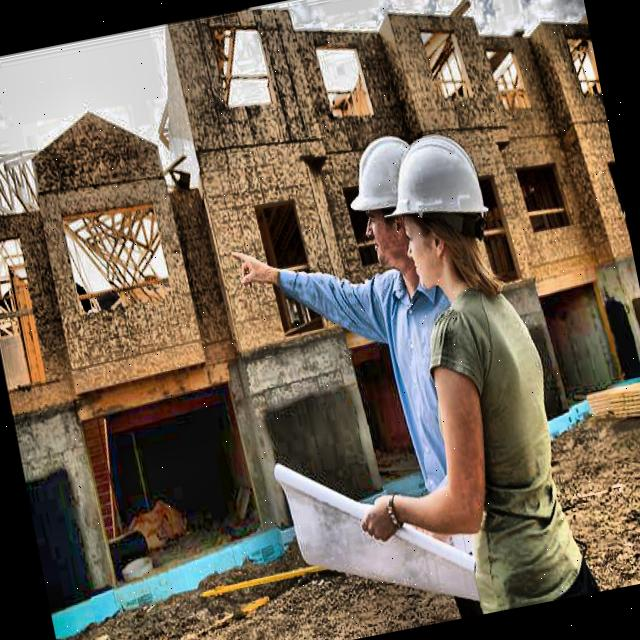helmet: (375, 127, 499, 300), (338, 132, 433, 278)
